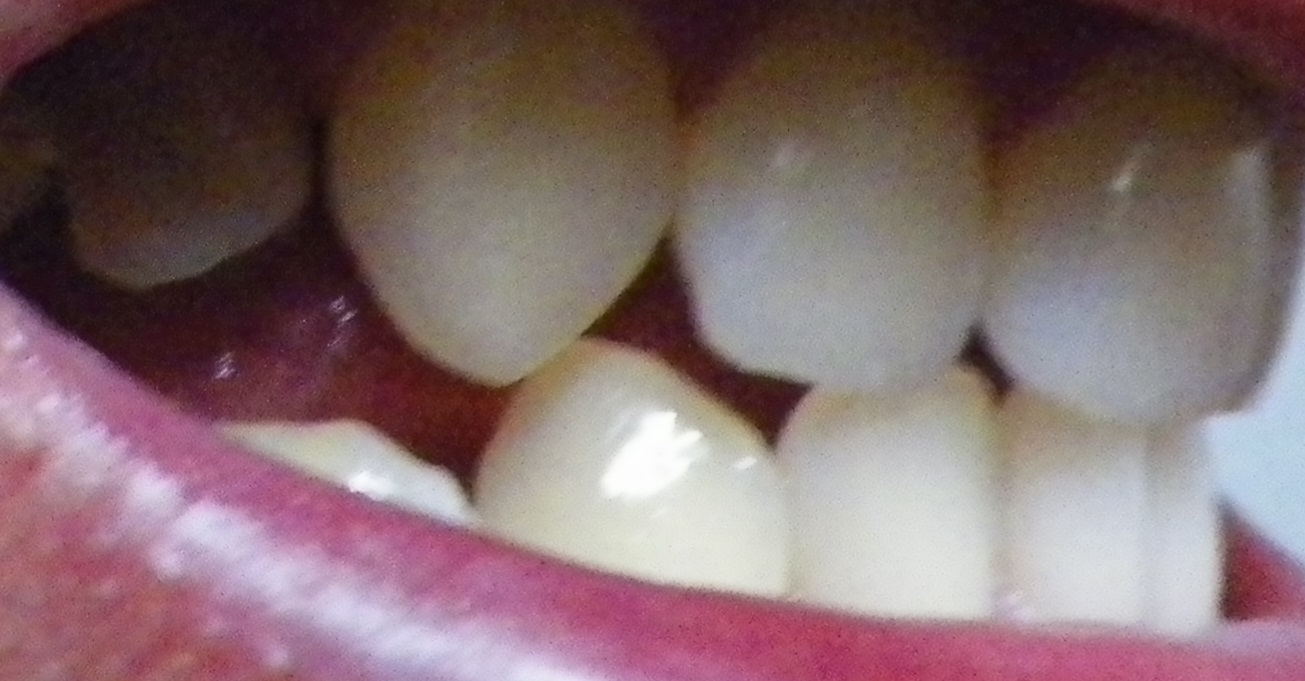boca: (34, 1, 1303, 632)
